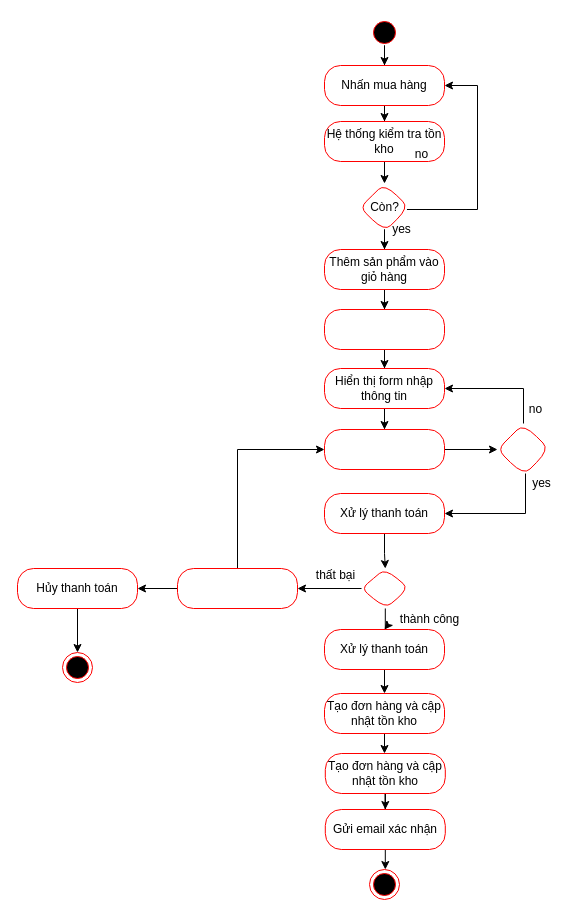
This 579x917 diagram has some shape labels left out. Each missing label, with the centre of its shape:
"Hợp lệ?" belongs at [523,449].
"Kiểm tra" belongs at [384,588].
"Người dùng chọn thành toán" belongs at [384,329].
"Nhập thông tin và xác nhận" belongs at [384,449].
"Thông báo lỗi" belongs at [237,588].
